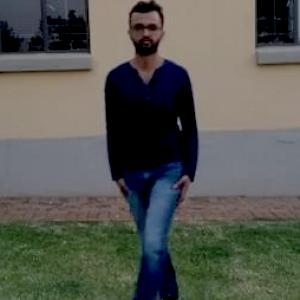follow: (100, 3, 195, 299)
